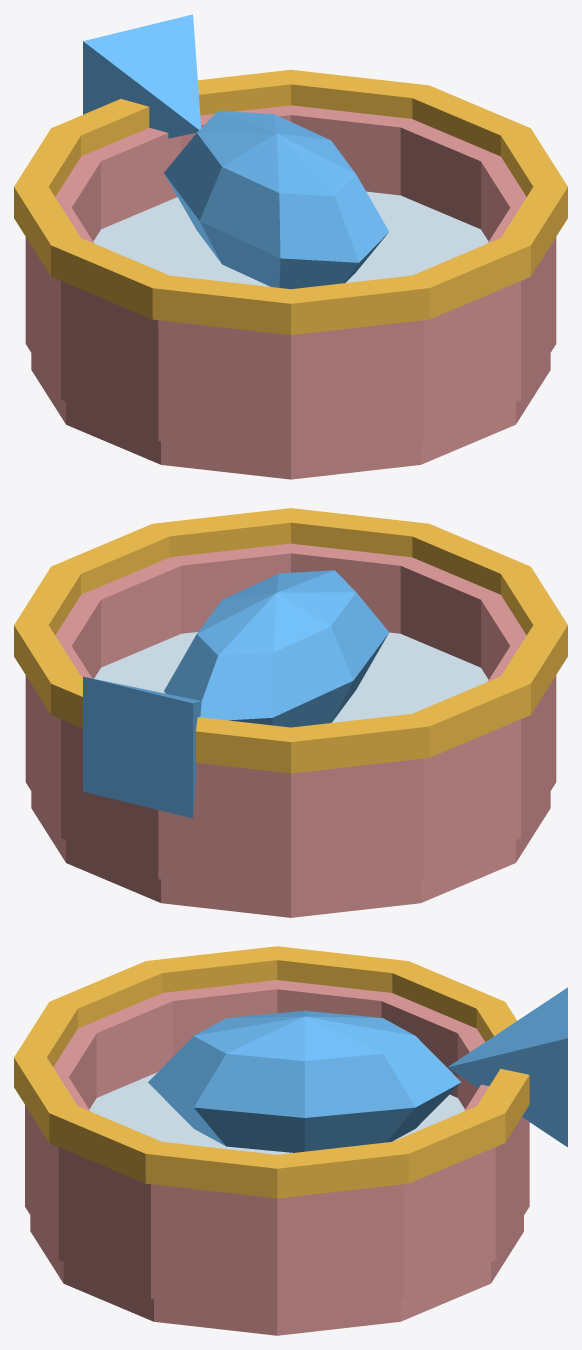
File: CatCafe_Item_FoodBowl_Premium.glb
3 renders of one model, top to bottom at view 1: azimuth 30°, elevation 25°; view 2: azimuth 150°, elevation 25°; view 3: azimuth 270°, elevation 25°, orthographic. The views are drawn at different scales.
Visible parts, largest first — view 1: CatCafe_Item_FoodBowl_Premium; view 2: CatCafe_Item_FoodBowl_Premium; view 3: CatCafe_Item_FoodBowl_Premium.
Boxes of the visible parts, x1,y1,x2,y2 form: CatCafe_Item_FoodBowl_Premium: (14, 14, 567, 479); CatCafe_Item_FoodBowl_Premium: (14, 508, 567, 917); CatCafe_Item_FoodBowl_Premium: (14, 946, 567, 1335).
Bounding box in the file's own units: 0.96 × 0.44 × 1.01.
1 material, 1 textured.
